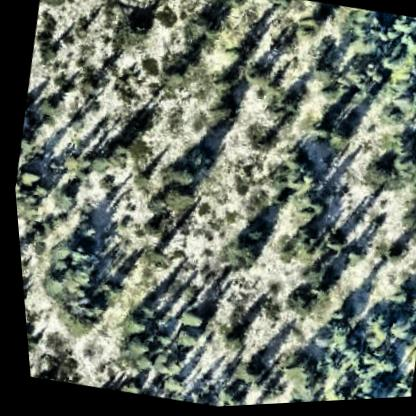tree-top: (26, 234, 97, 305), (148, 160, 204, 216), (272, 219, 322, 268), (50, 296, 99, 343), (212, 229, 261, 275), (155, 152, 202, 196), (358, 156, 403, 197), (180, 7, 222, 48), (154, 179, 196, 218), (377, 131, 416, 170), (41, 180, 78, 217), (311, 367, 348, 404), (169, 302, 207, 337), (318, 121, 354, 157), (112, 307, 150, 341), (376, 316, 409, 350), (300, 268, 334, 301), (210, 325, 244, 357), (157, 61, 190, 93), (228, 356, 261, 387), (11, 161, 40, 190), (111, 377, 139, 396), (42, 0, 78, 6), (412, 185, 416, 222)
